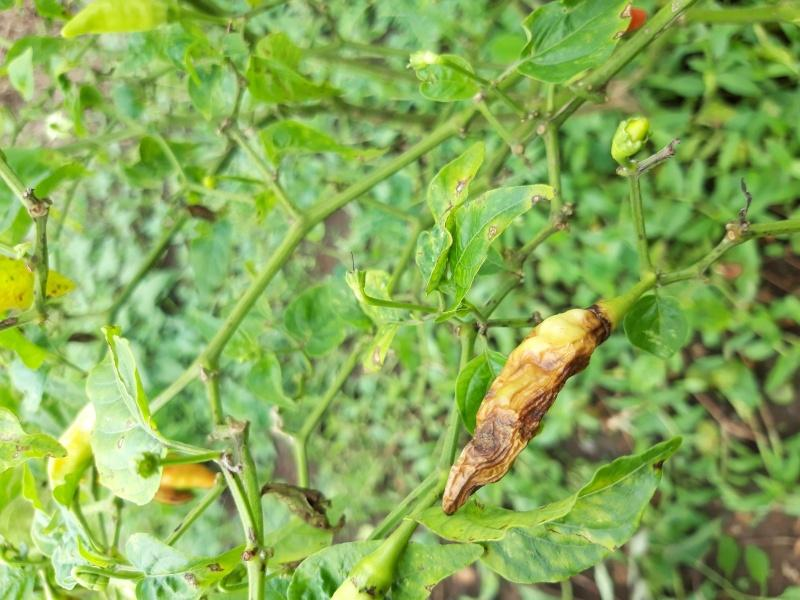antraknosa: (444, 309, 606, 513)
